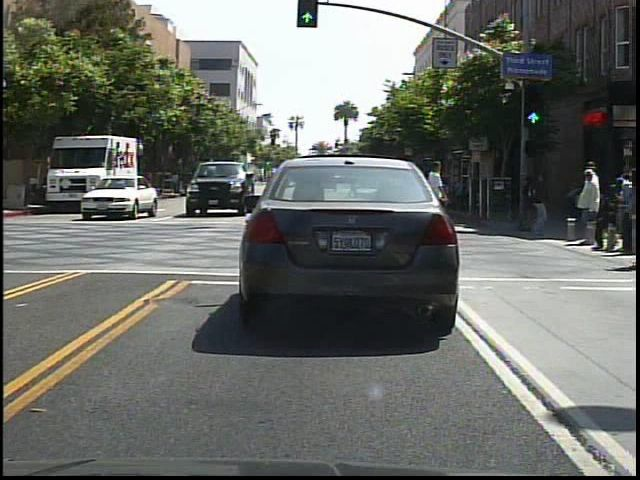person: (419, 149, 456, 244), (519, 168, 553, 238), (523, 170, 556, 241), (579, 166, 603, 252)
